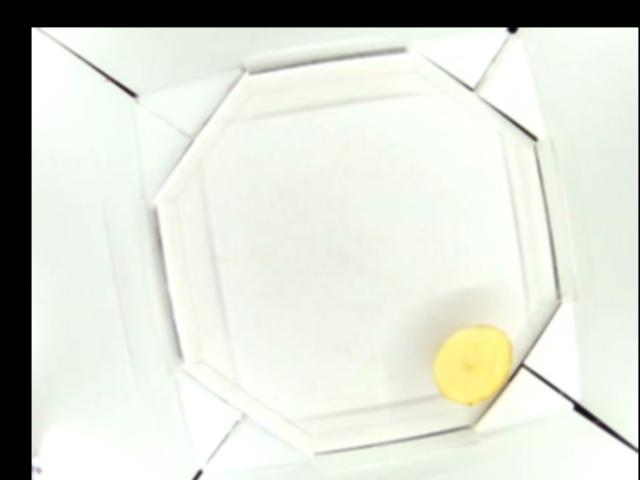Potato: (435, 324, 512, 400)
